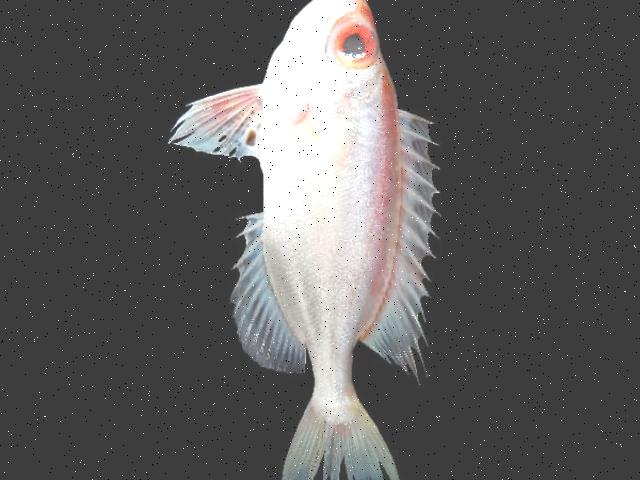Mulut: (305, 0, 378, 17)
Sirip Anal: (228, 211, 308, 381)
Sirip Dada: (276, 95, 328, 169)
Sirip Ekor: (271, 399, 415, 480)
Sirip Perut: (160, 82, 266, 167)
Sirip Punggung: (356, 103, 448, 389)
